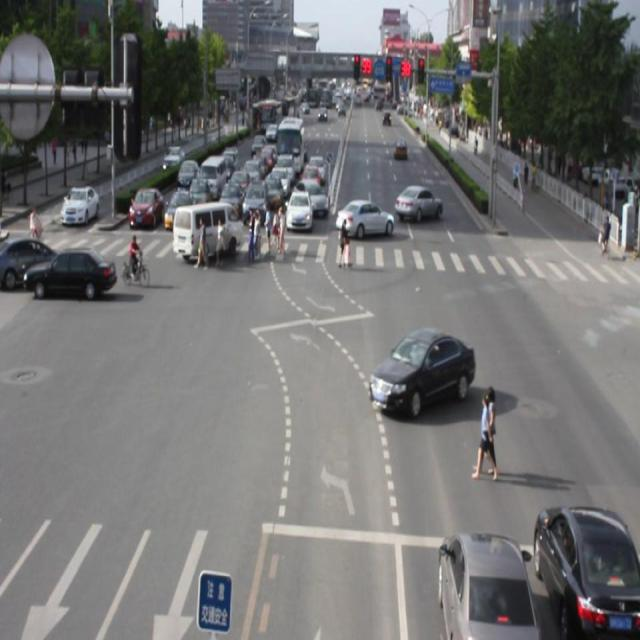car: (534, 498, 640, 640), (436, 527, 537, 640), (368, 324, 474, 413)
truck: (174, 200, 244, 260)
